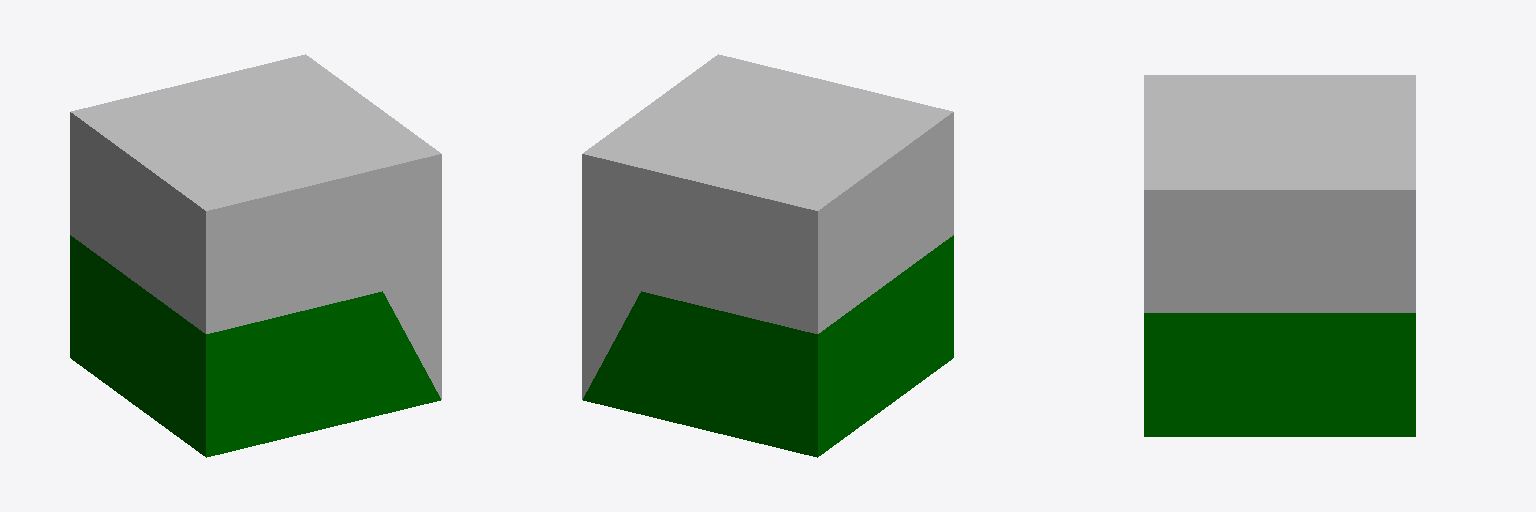
The model's file is Кубик.obj.
The picture shows the model from 3 angles: view 1: azimuth 30°, elevation 25°; view 2: azimuth 150°, elevation 25°; view 3: azimuth 270°, elevation 25°; orthographic projection.
Bounding box in the file's own units: 20 × 20 × 20.